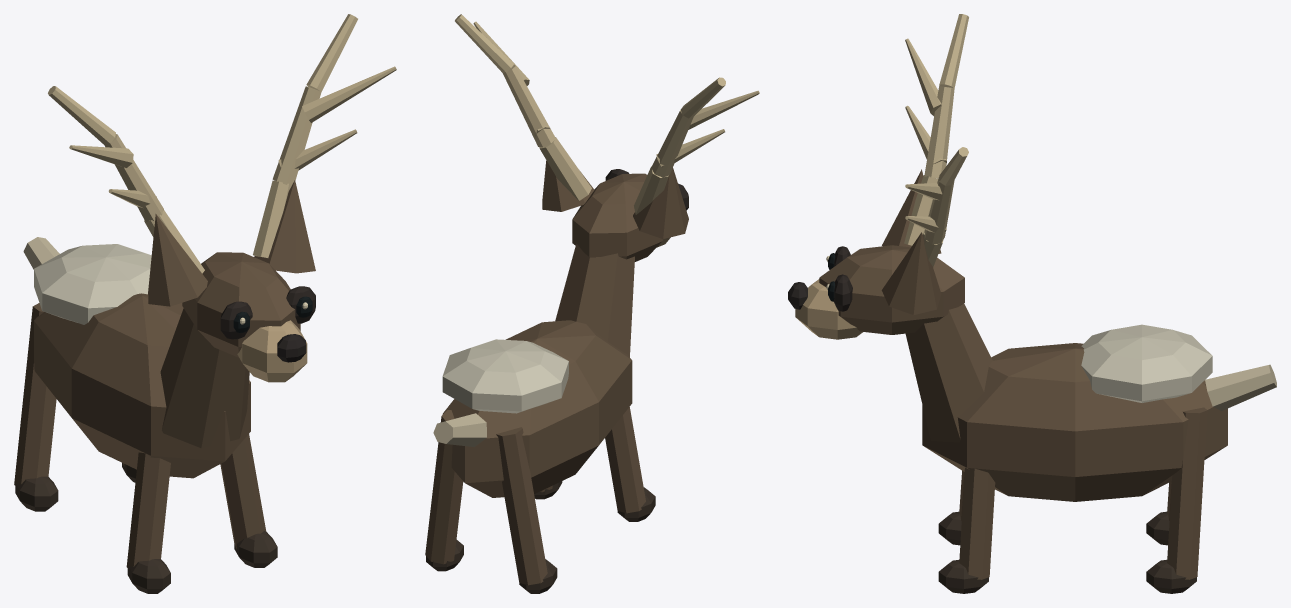
Rendered from fauna-whiteback_elk.glb.
3 renders of one model, left to right at view 1: azimuth 30°, elevation 25°; view 2: azimuth 150°, elevation 25°; view 3: azimuth 270°, elevation 25°, orthographic. The views are drawn at different scales.
Parts seen in each view (by area): view 1: Fauna_whiteback_elk; view 2: Fauna_whiteback_elk; view 3: Fauna_whiteback_elk.
Part boxes in pixels (x1=…): Fauna_whiteback_elk: x1=14, y1=14, x2=396, y2=593; Fauna_whiteback_elk: x1=425, y1=14, x2=759, y2=593; Fauna_whiteback_elk: x1=788, y1=14, x2=1276, y2=593.
Size of the model in its own units: 1.41 by 2.18 by 1.98.
